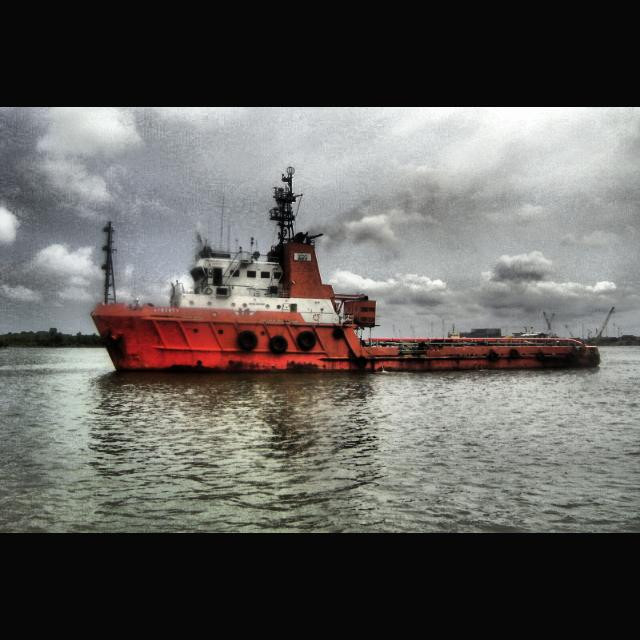anchor_handling_tug_supply: (84, 222, 606, 380)
